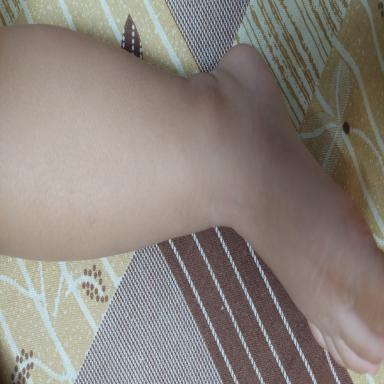normal skin: (0, 26, 384, 375)
